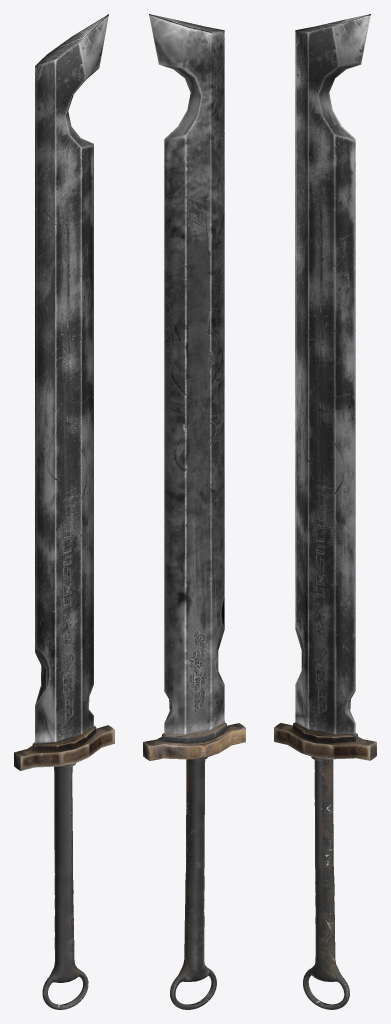
File: sword-1.glb
The picture shows the model from 3 angles, left to right: view 1: azimuth 30°, elevation 25°; view 2: azimuth 210°, elevation 25°; view 3: azimuth 330°, elevation 25°; orthographic projection. The views are drawn at different scales.
Visible parts, largest first — view 1: Object_10, Object_12; view 2: Object_10, Object_12; view 3: Object_10, Object_12.
Boxes of the visible parts, bbox=[...] form: Object_10: bbox=[14, 14, 114, 770]; Object_12: bbox=[42, 763, 88, 1009]; Object_10: bbox=[143, 14, 245, 760]; Object_12: bbox=[170, 757, 216, 1009]; Object_10: bbox=[274, 14, 376, 760]; Object_12: bbox=[303, 756, 349, 1009].
Size of the model in its own units: 0.101 by 1 by 0.039.
Materials: 2 (2 with a texture image).
